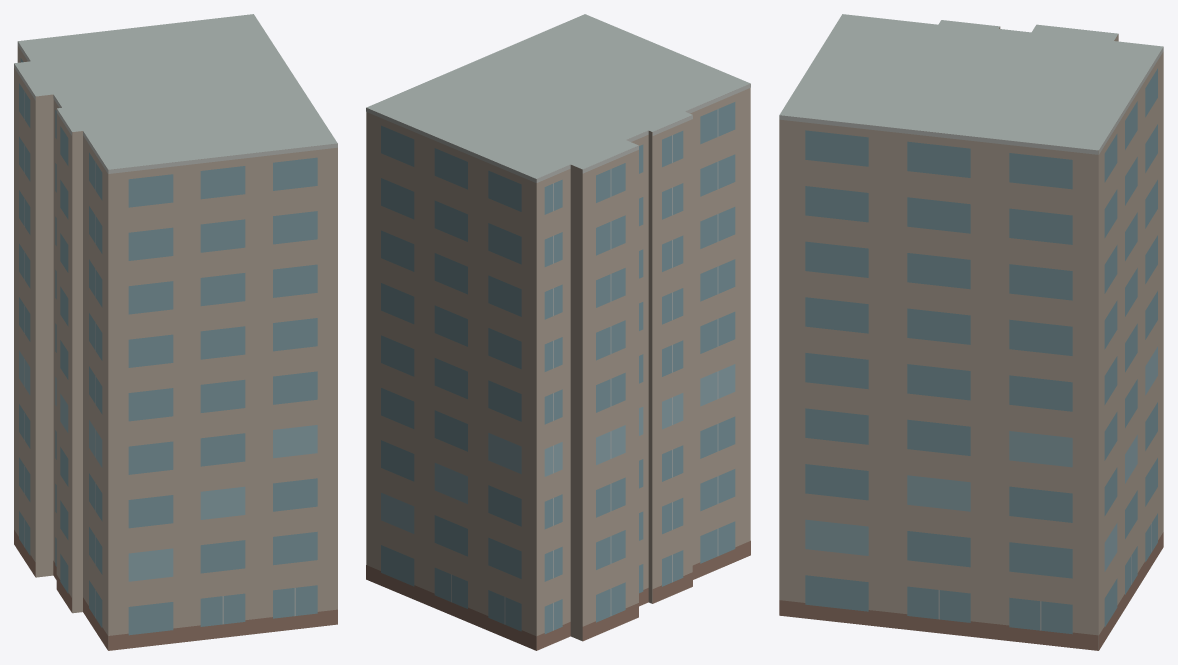
Rendered from survey-upis-32962181.glb.
3 renders of one model, left to right at view 1: azimuth 30°, elevation 25°; view 2: azimuth 150°, elevation 25°; view 3: azimuth 270°, elevation 25°, orthographic. The views are drawn at different scales.
Parts seen in each view (by area): view 1: survey-upis-32962181.tmp; view 2: survey-upis-32962181.tmp; view 3: survey-upis-32962181.tmp.
Part boxes in pixels (x1=…): survey-upis-32962181.tmp: x1=14, y1=14, x2=337, y2=650; survey-upis-32962181.tmp: x1=366, y1=14, x2=750, y2=650; survey-upis-32962181.tmp: x1=779, y1=14, x2=1163, y2=650.
Bounding box in the file's own units: 16.06 × 27.45 × 19.12.
